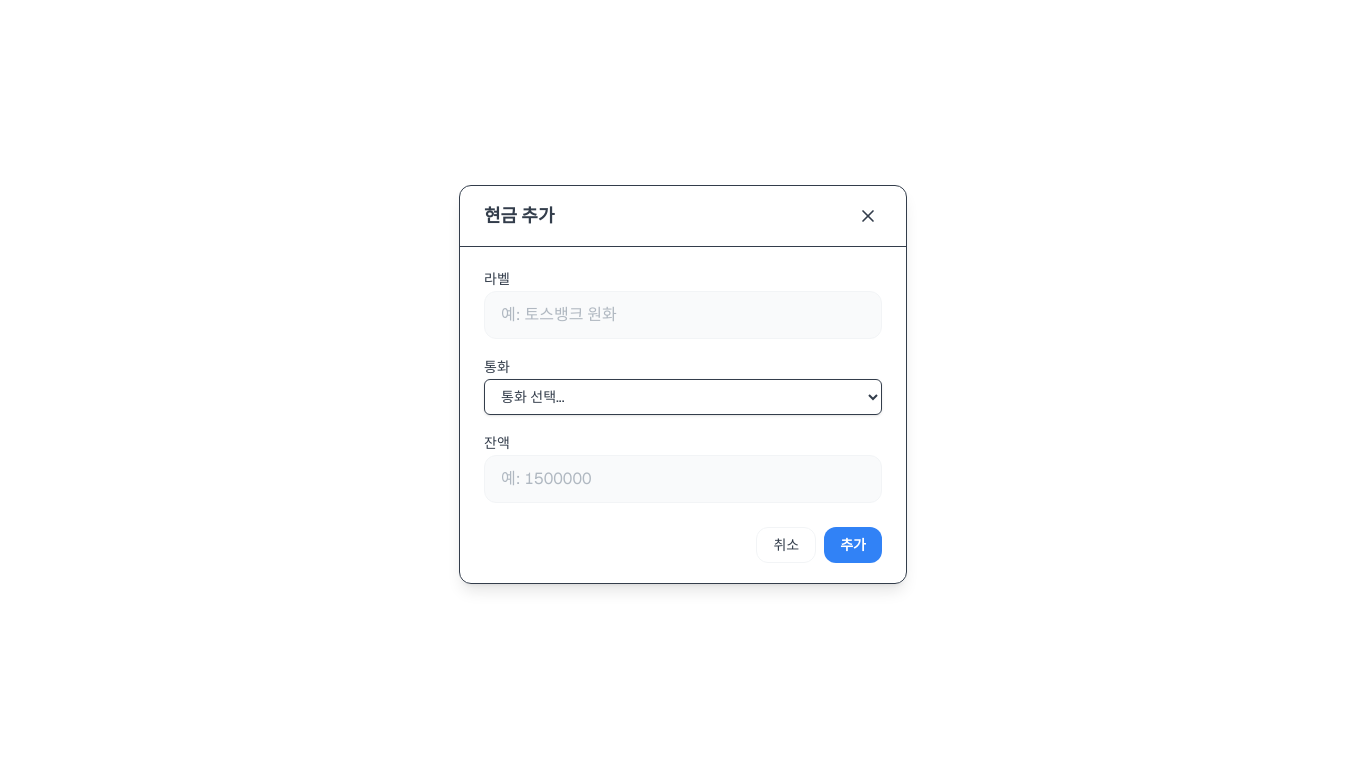
CashAccountAddDialog › 폼 검증 › 빈 폼 제출 시 라벨 에러가 표시된다
What coordinates should you click on to do the following:
click the button "추가"
I would click on:
 (853, 544)
Its box is [824, 526, 882, 562].
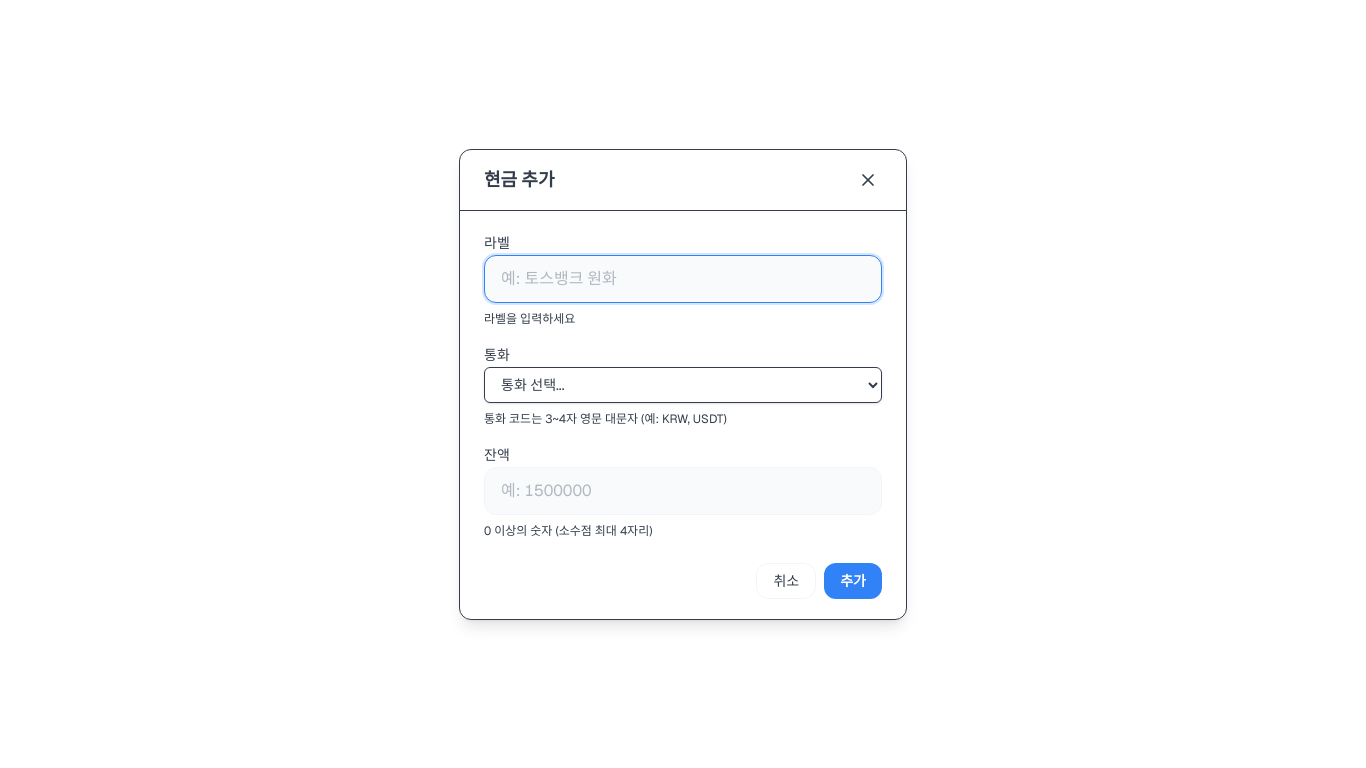
Expected: the text "라벨을 입력하세요" is shown, [484, 310, 575, 326]
